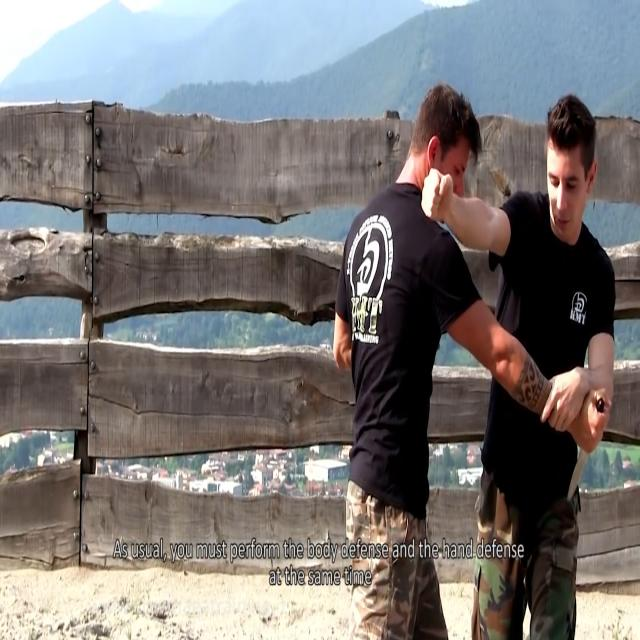knife: (567, 455, 594, 504)
